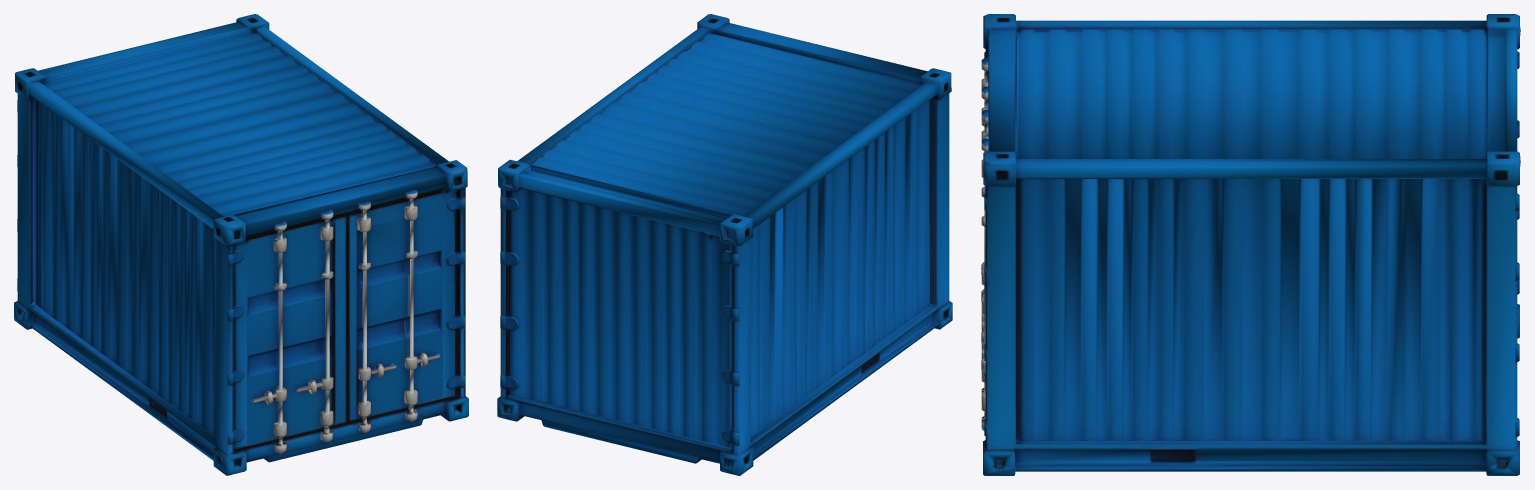
The model's file is blue_shipping_container_60b5ea93_v3.glb.
3 views of the same model, side by side, from view 1: azimuth 30°, elevation 25°; view 2: azimuth 150°, elevation 25°; view 3: azimuth 270°, elevation 25° (orthographic). The views are drawn at different scales.
Visible parts, largest first — view 1: material; view 2: material; view 3: material.
Boxes of the visible parts, box(x1,y1,x2,y2) form: material: box(14, 14, 468, 475); material: box(497, 14, 952, 475); material: box(981, 14, 1520, 475).
Bounding box in the file's own units: 1.25 × 1.22 × 1.9.
1 material, 1 textured.
